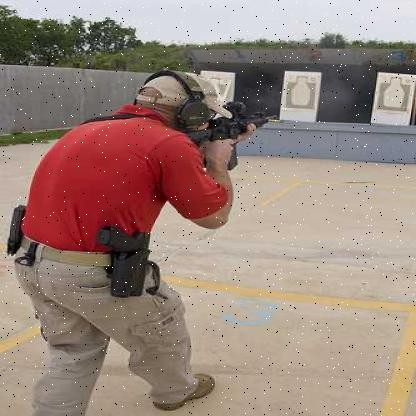rifle: (159, 85, 297, 190)
